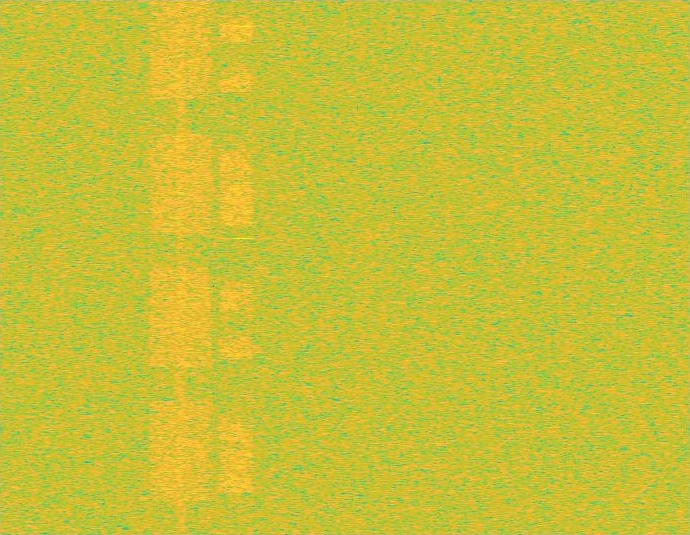5G: (146, 0, 215, 534)
DSSS: (176, 0, 186, 534)
LTE: (219, 0, 254, 534)
Radar: (236, 0, 250, 534)
